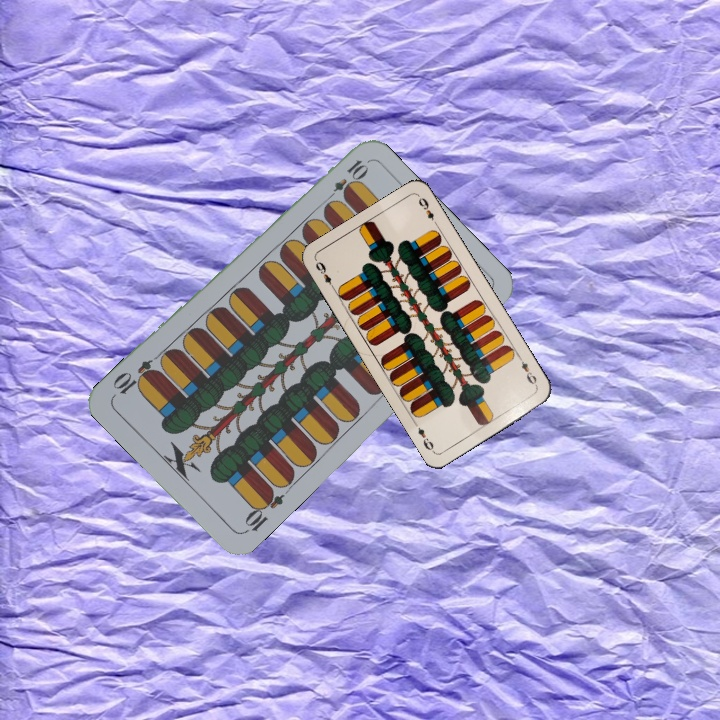E10: (240, 484, 287, 536), (322, 155, 370, 205)
E9: (311, 257, 338, 293), (515, 352, 540, 390)
